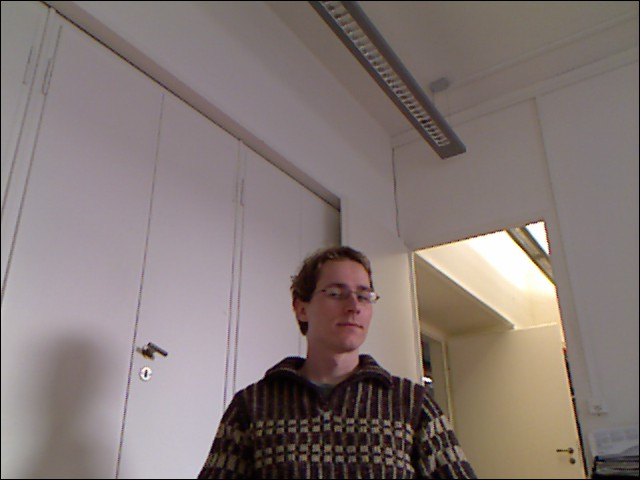deflection: (222, 251, 458, 469)
